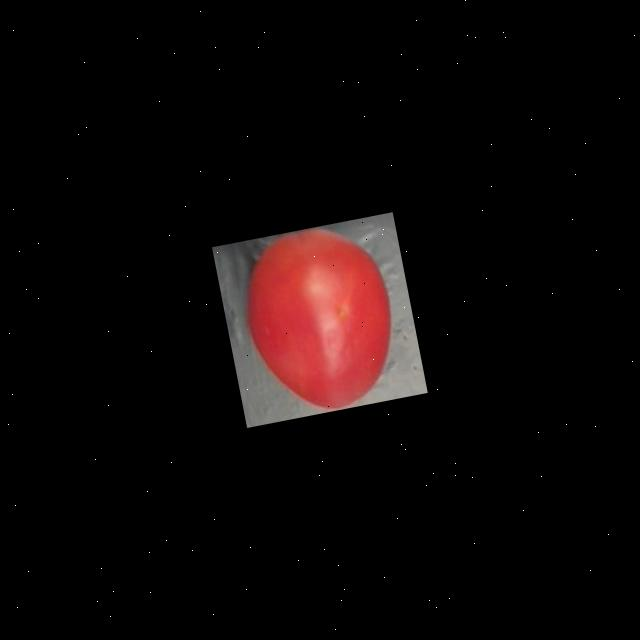tomato: (232, 216, 411, 424)
